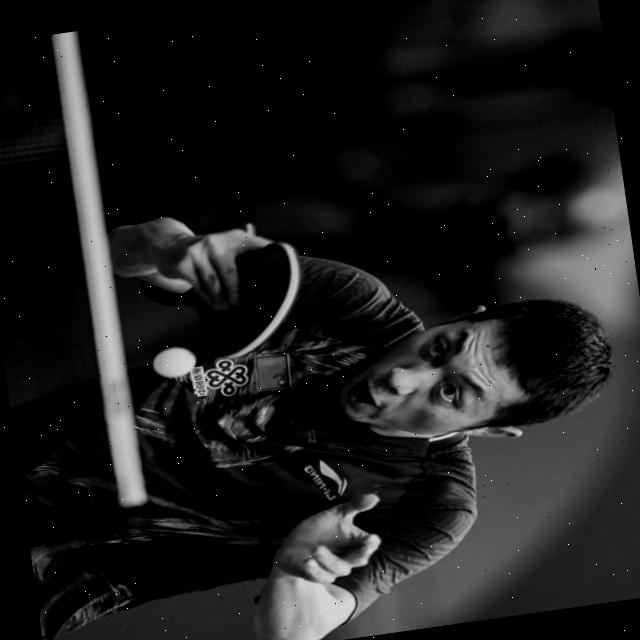ping-pong-ball: (146, 340, 201, 386)
